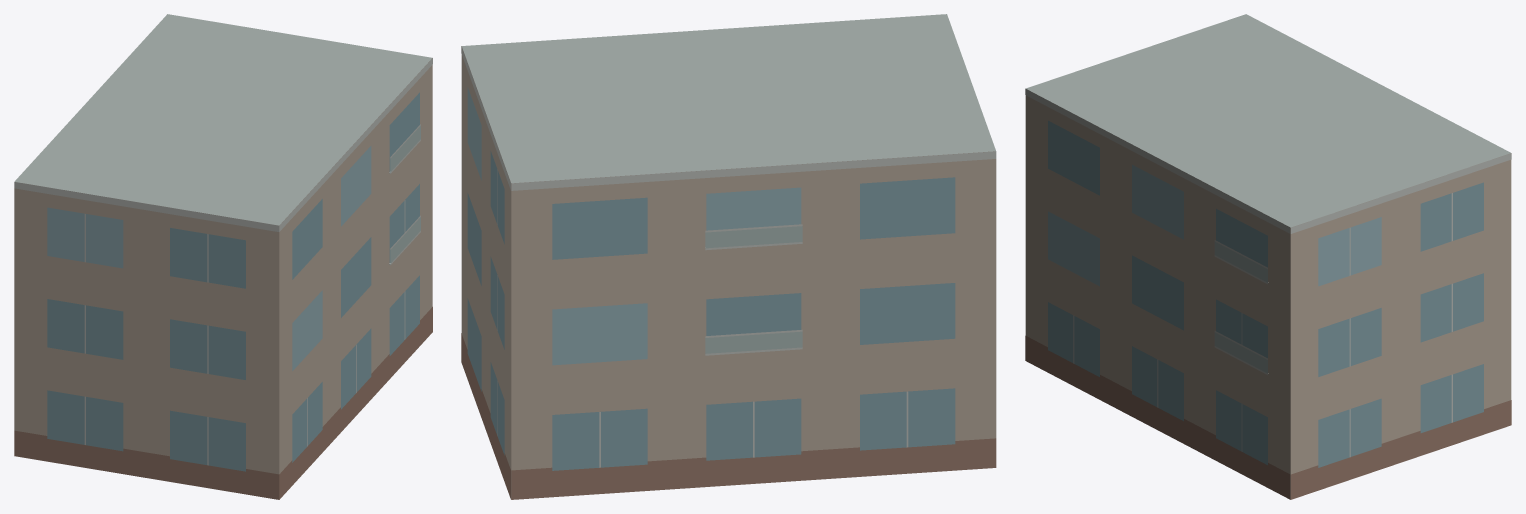
Rendered from survey-upis-32909088.glb.
3 renders of one model, left to right at view 1: azimuth 30°, elevation 25°; view 2: azimuth 150°, elevation 25°; view 3: azimuth 270°, elevation 25°, orthographic. The views are drawn at different scales.
Parts seen in each view (by area): view 1: survey-upis-32909088.tmp; view 2: survey-upis-32909088.tmp; view 3: survey-upis-32909088.tmp.
Part boxes in pixels (x1,y1,x2,y2): survey-upis-32909088.tmp: (14, 14, 432, 499); survey-upis-32909088.tmp: (461, 14, 996, 499); survey-upis-32909088.tmp: (1025, 14, 1511, 499).
Size of the model in its own units: 17 by 10.1 by 16.34.
